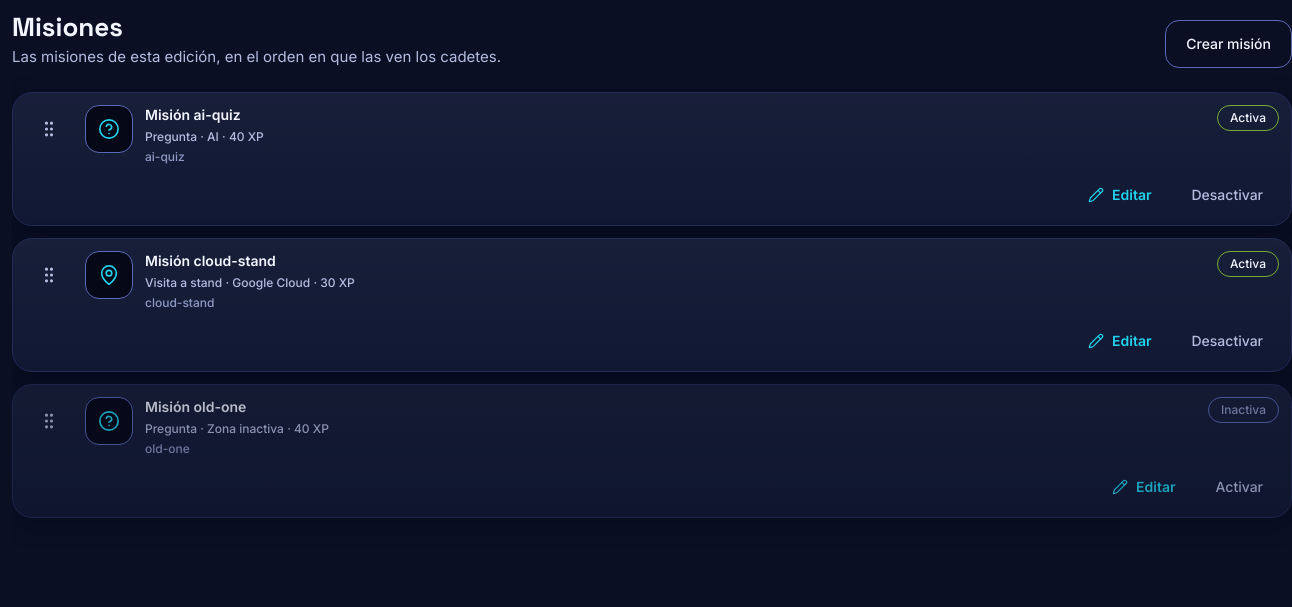
Test: MissionsAdminView › explains a refusal, and an action that throws, without refreshing
Click the 1st button "Desactivar" at (1227,195), box x1=1176 y1=177 x2=1279 y2=213
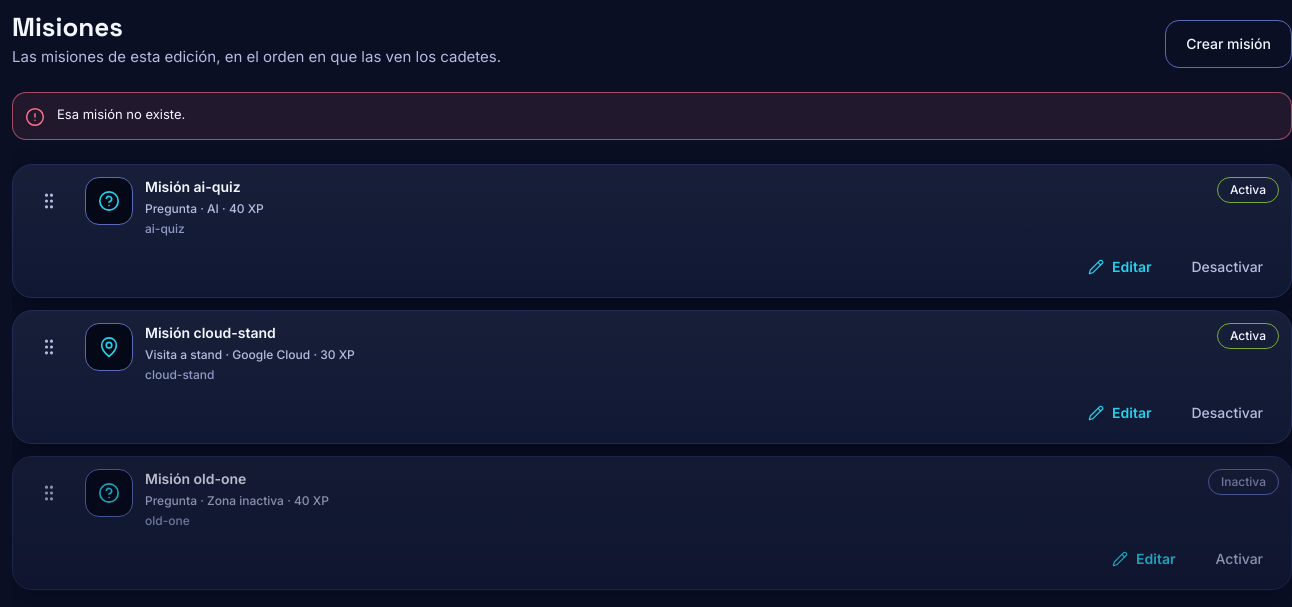
Check: the message reads "Esa misión no existe.", box x1=57 y1=106 x2=185 y2=122
Press ArrowDown in the button named "Mover Misión ai-quiz", box x1=25 y1=177 x2=73 y2=225
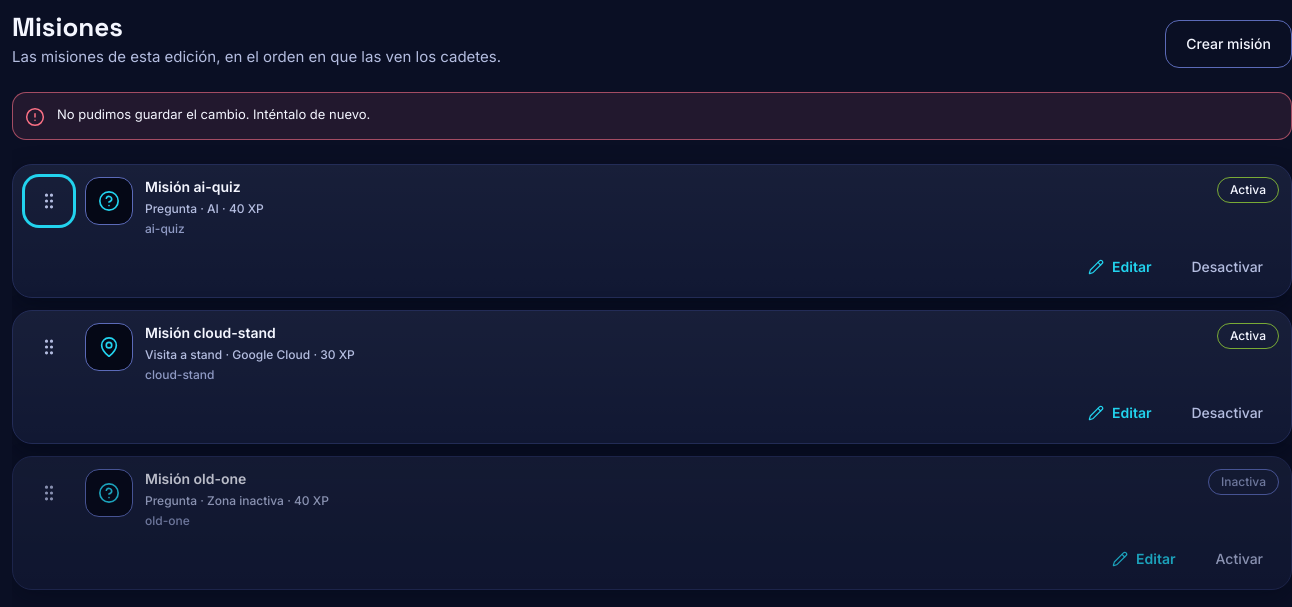
Check: the list item that starts with "Misión ai-quiz" is shown, box x1=145 y1=178 x2=241 y2=195
Check: the message reads "No pudimos guardar el cambio. Inténtalo de nuevo.", box x1=57 y1=106 x2=370 y2=122
